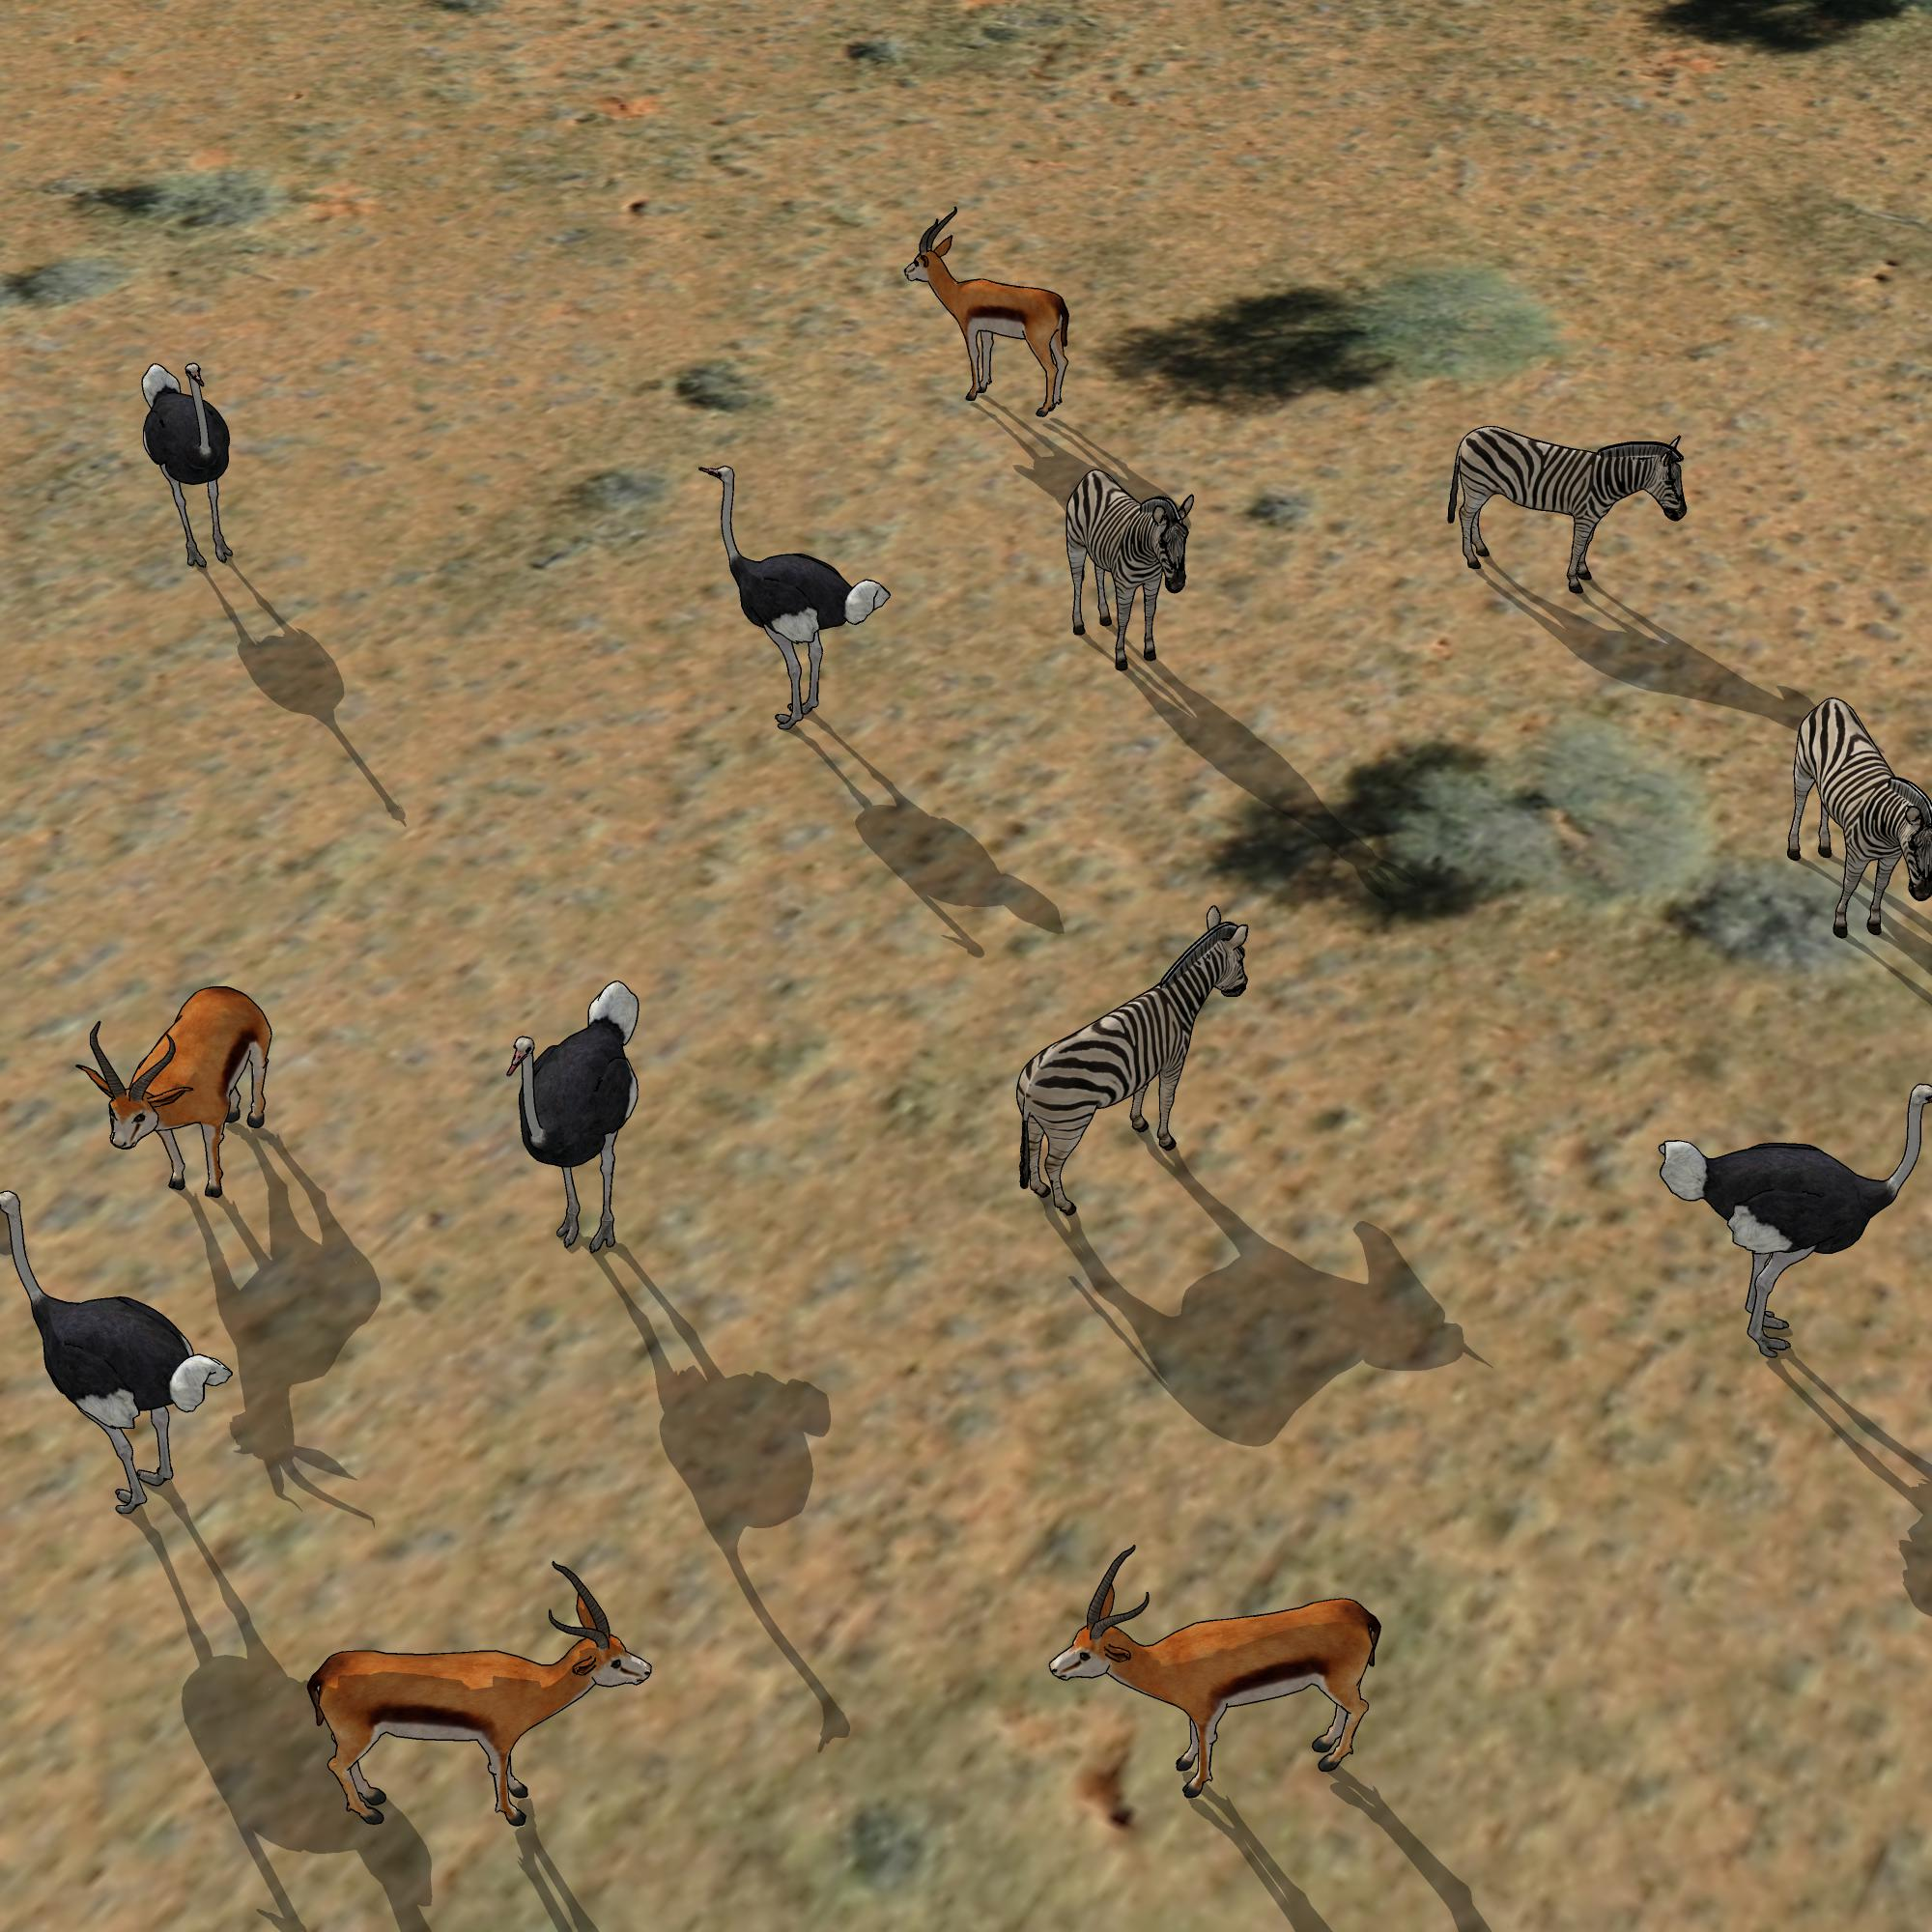ostrich: (1633, 1071, 1932, 1361), (1, 1183, 240, 1514), (702, 453, 885, 730), (494, 972, 646, 1254), (135, 352, 257, 573)
springbok: (303, 1559, 667, 1841), (1040, 1531, 1414, 1801), (82, 967, 285, 1196), (903, 205, 1081, 412)
zebra: (1008, 911, 1271, 1219), (1442, 405, 1699, 596), (1777, 690, 1932, 939), (1065, 459, 1196, 669)
